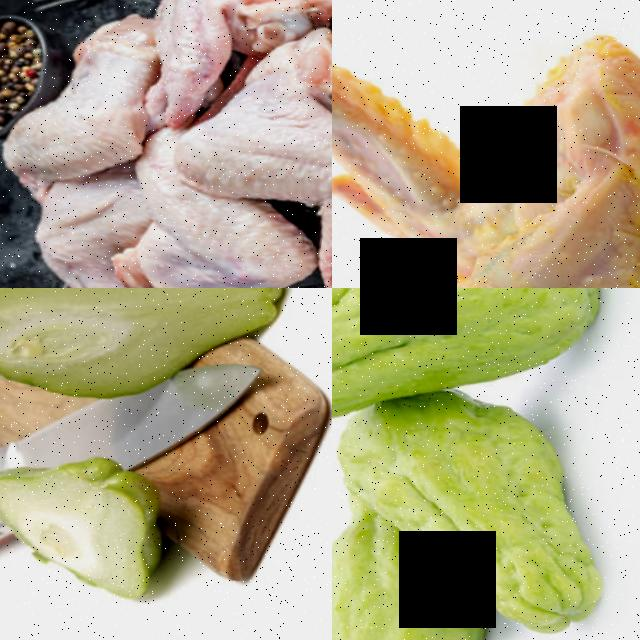chayote: (332, 386, 640, 614), (0, 436, 222, 640), (0, 288, 265, 447), (332, 288, 610, 429), (332, 552, 465, 640)
chicken wing: (332, 0, 640, 288), (149, 24, 332, 288), (5, 165, 178, 288)
